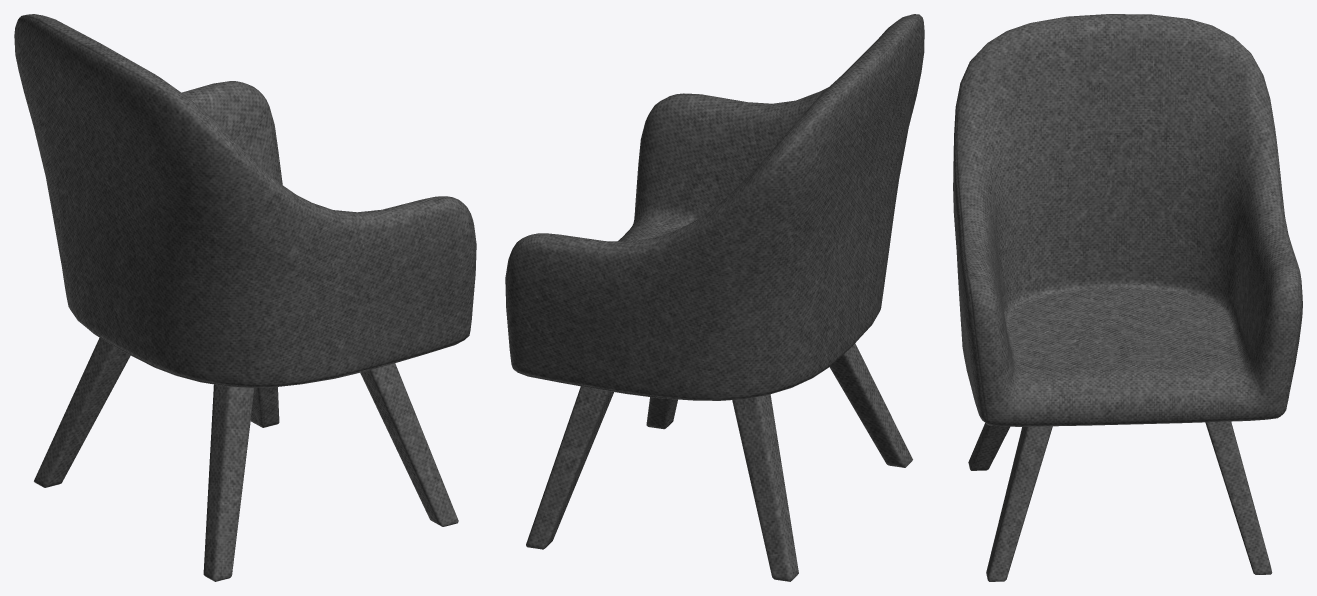
File: yayy2.glb
3 views of the same model, side by side, from view 1: azimuth 30°, elevation 25°; view 2: azimuth 150°, elevation 25°; view 3: azimuth 270°, elevation 25° (orthographic). The views are drawn at different scales.
Visible parts, largest first — view 1: seat_mesh_n3d, leg_002_mesh_n3d, leg_004_mesh_n3d, leg_001_mesh_n3d, leg_003_mesh_n3d; view 2: seat_mesh_n3d, leg_001_mesh_n3d, leg_003_mesh_n3d, leg_002_mesh_n3d, leg_004_mesh_n3d; view 3: seat_mesh_n3d, leg_004_mesh_n3d, leg_003_mesh_n3d, leg_002_mesh_n3d.
Boxes of the visible parts, x1,y1,x2,y2 form: seat_mesh_n3d: (14,14,476,387); leg_002_mesh_n3d: (203,384,254,581); leg_004_mesh_n3d: (360,363,458,526); leg_001_mesh_n3d: (34,337,130,487); leg_003_mesh_n3d: (250,387,279,427); seat_mesh_n3d: (505,14,924,400); leg_001_mesh_n3d: (732,394,798,581); leg_003_mesh_n3d: (526,386,613,549); leg_002_mesh_n3d: (829,343,912,467); leg_004_mesh_n3d: (646,397,677,429); seat_mesh_n3d: (953,14,1302,426); leg_004_mesh_n3d: (986,426,1052,581); leg_003_mesh_n3d: (1205,421,1272,574); leg_002_mesh_n3d: (968,423,1009,470).
Size of the model in its own units: 1.27 by 1.9 by 1.35.
Materials: 1 (1 with a texture image).
